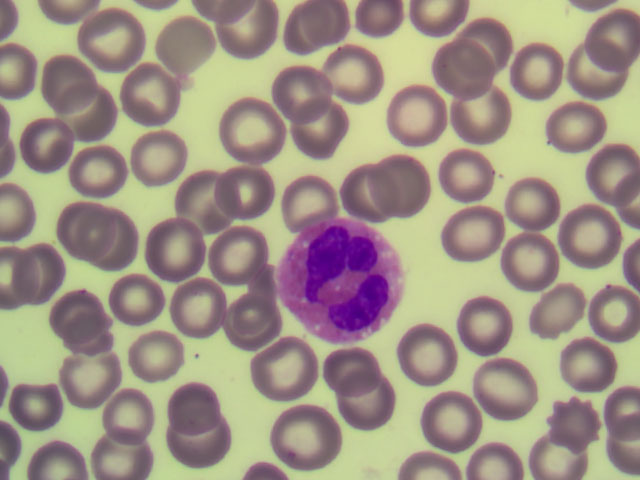RBC: (26, 420, 86, 480), (87, 420, 147, 480), (530, 420, 590, 480), (36, 49, 96, 108), (79, 9, 139, 68), (121, 65, 181, 124), (160, 17, 220, 76), (222, 2, 282, 61), (275, 7, 335, 66), (333, 39, 393, 98), (278, 60, 338, 119), (291, 109, 351, 168), (225, 97, 285, 156), (219, 158, 279, 217), (183, 168, 243, 227), (128, 128, 188, 187), (61, 137, 121, 196), (29, 118, 89, 177), (62, 78, 122, 137), (49, 195, 109, 254), (87, 210, 147, 269), (148, 217, 208, 276), (212, 216, 272, 275), (217, 294, 277, 353), (176, 276, 236, 335), (112, 269, 172, 328), (128, 327, 188, 386), (62, 347, 122, 406), (59, 311, 119, 370), (47, 284, 107, 343), (10, 242, 70, 301), (14, 376, 74, 435), (105, 383, 165, 442), (164, 370, 224, 429), (166, 403, 226, 462), (256, 347, 316, 406), (276, 407, 336, 466), (332, 375, 392, 434), (319, 340, 379, 399), (400, 326, 460, 385), (448, 296, 508, 355), (480, 356, 540, 415), (421, 390, 481, 449), (552, 391, 612, 450), (560, 336, 620, 395), (572, 282, 632, 341), (525, 278, 585, 337), (500, 234, 560, 293), (443, 208, 503, 267), (501, 178, 561, 237), (439, 145, 499, 204), (381, 160, 441, 219), (342, 163, 402, 222), (282, 172, 342, 231), (381, 87, 441, 146), (451, 86, 511, 145), (430, 40, 490, 99), (290, 1, 350, 59), (561, 206, 619, 266), (563, 44, 621, 104), (582, 10, 640, 70), (457, 13, 517, 66), (508, 40, 568, 93), (542, 95, 602, 148), (580, 148, 640, 201)
WBC: (278, 217, 396, 333)
